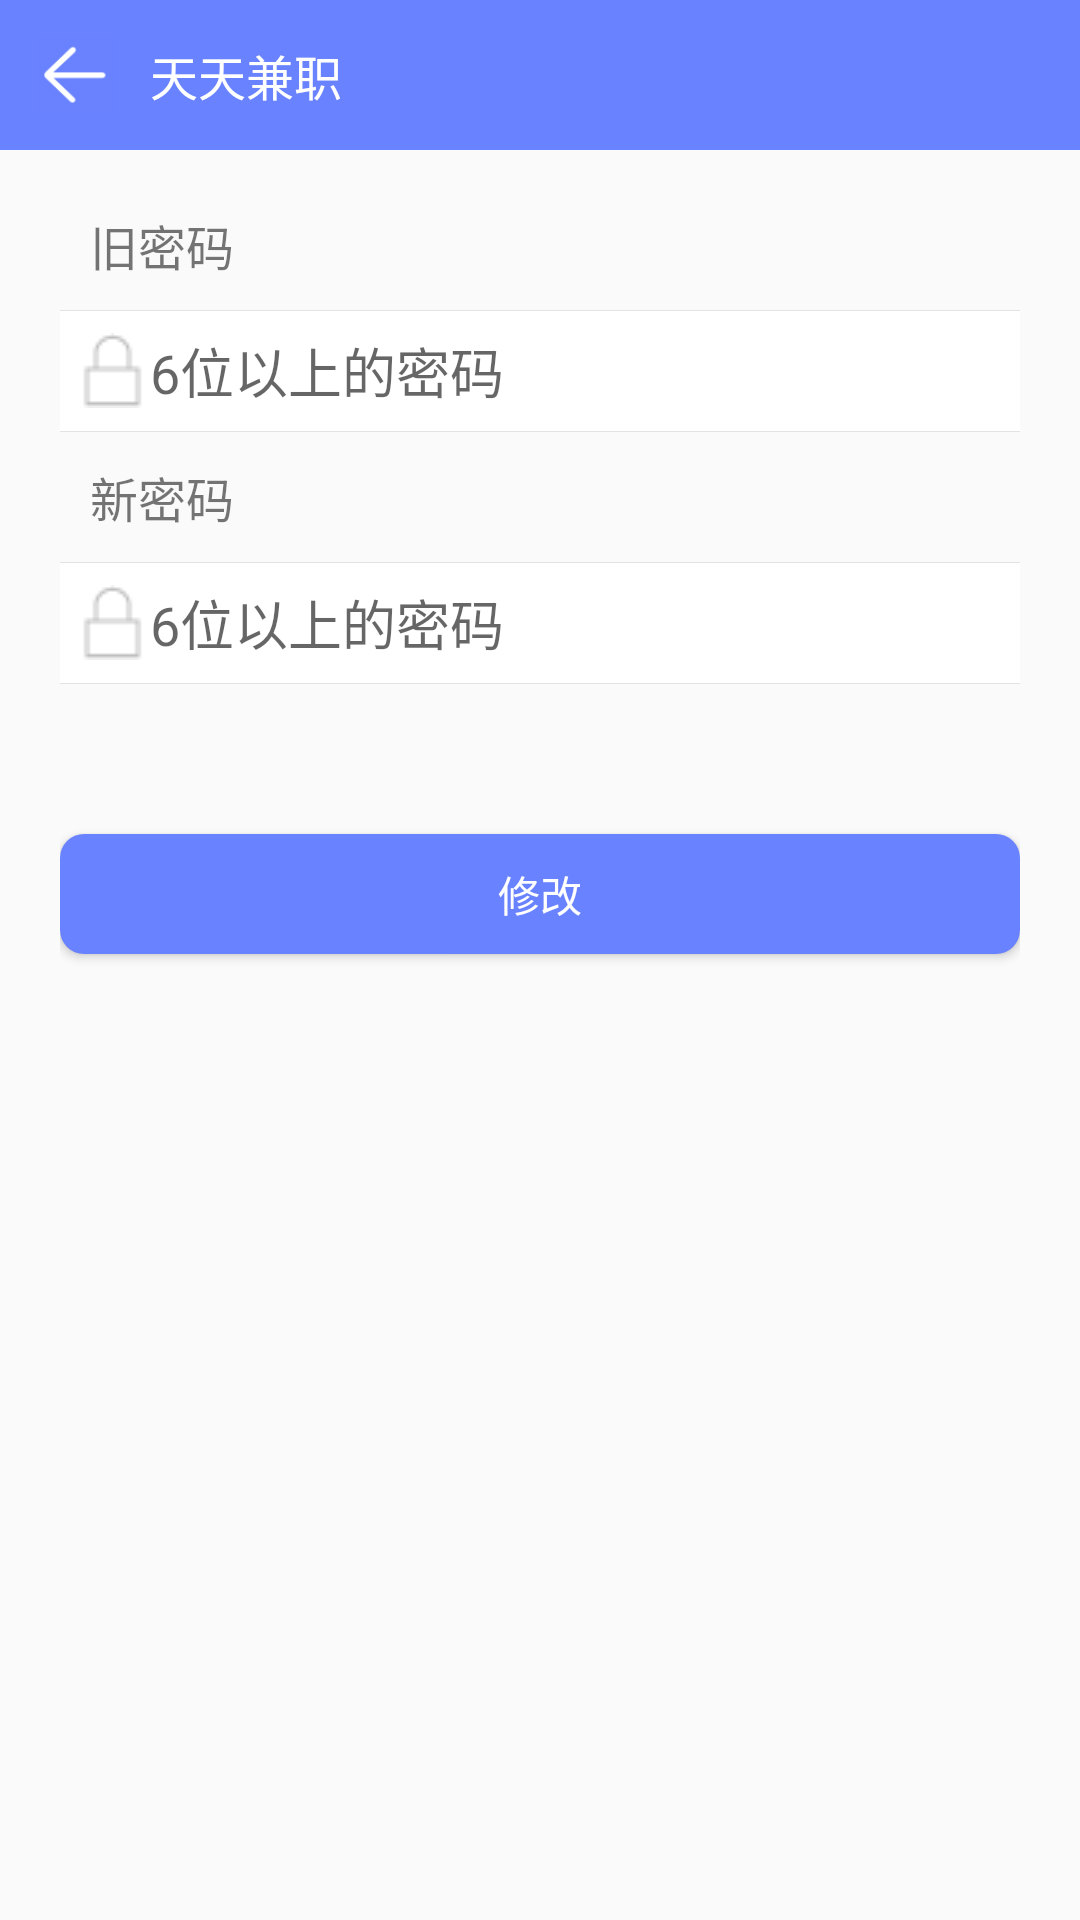

Icons on this 1080px x 1920px Android screen, each with its box as (x1, y1, x2, y2):
back: (44, 47, 106, 103)
